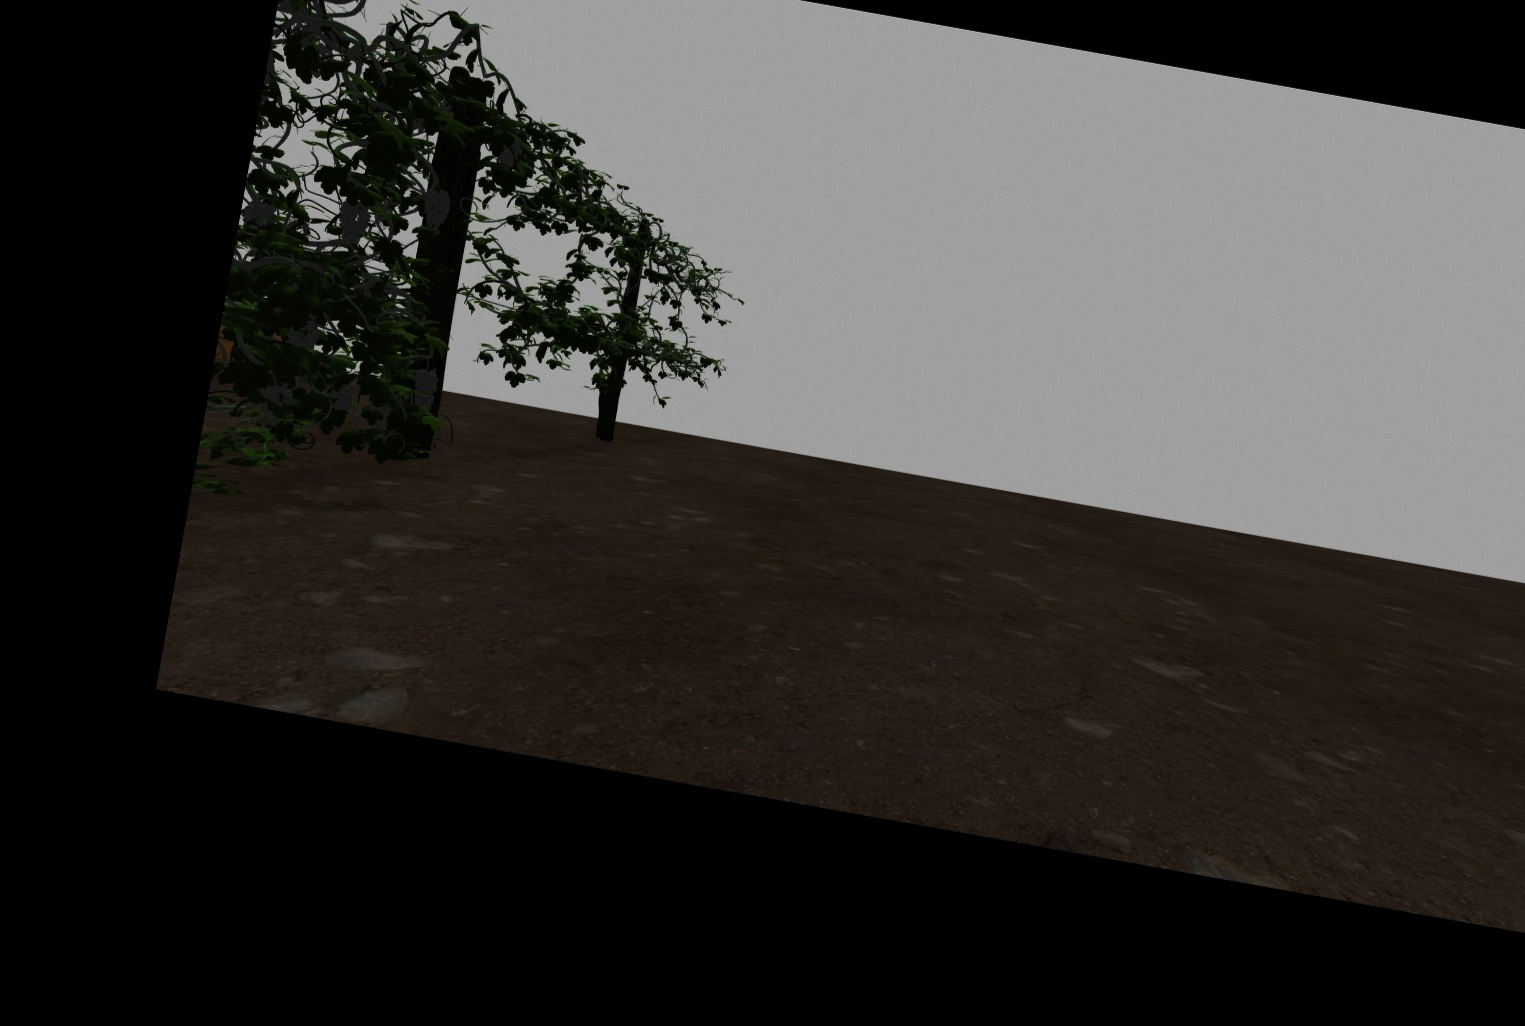grape: (335, 198, 371, 247), (421, 187, 449, 229), (412, 366, 438, 409), (287, 317, 321, 348), (258, 379, 292, 407), (330, 385, 353, 413)
